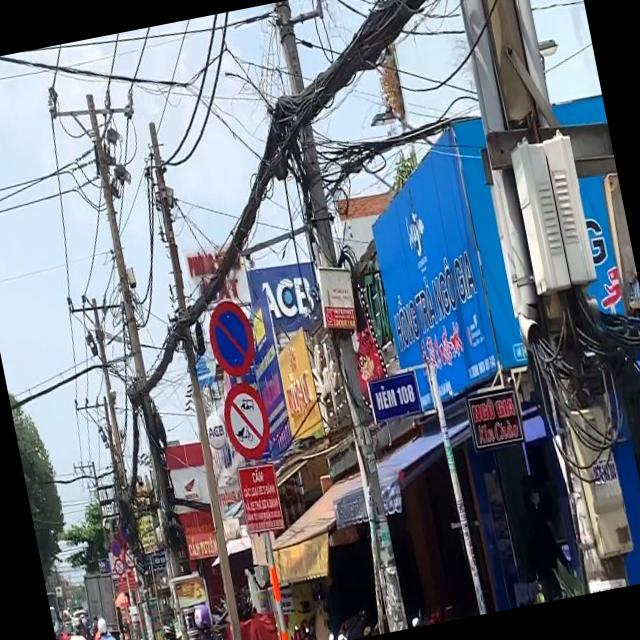P-131a: (203, 295, 262, 378)
